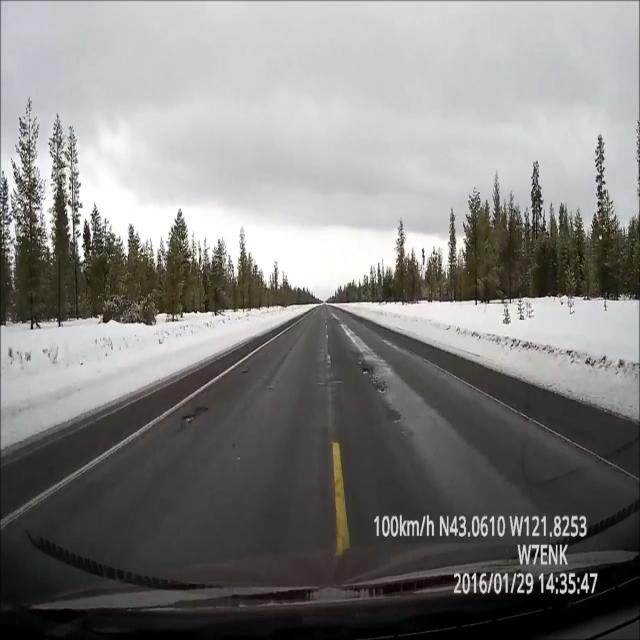Pothole: (355, 347, 376, 382)
